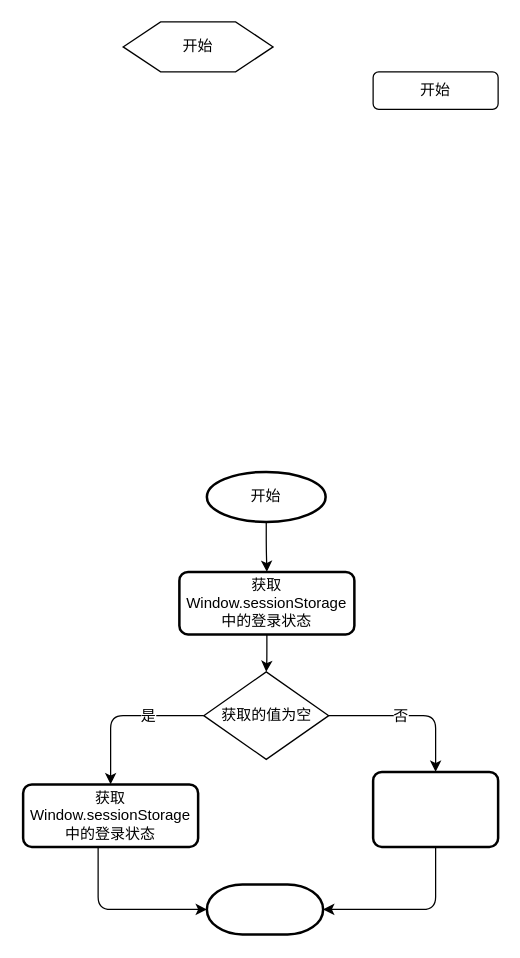
This 520x958 diagram has some shape labels left out. The centre of each missing label's shape, as x and y in pixels:
"使用获取的值初始化登录状态" belongs at (435,809).
"结束" belongs at (264,908).
